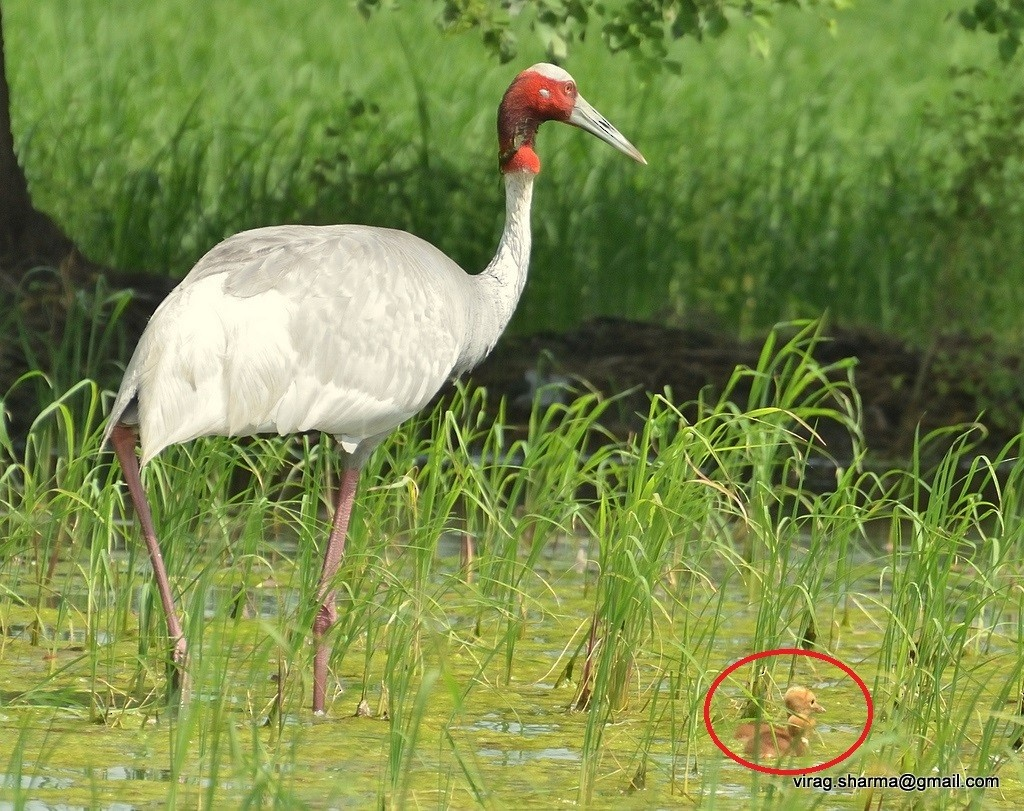crane: (78, 58, 663, 724)
